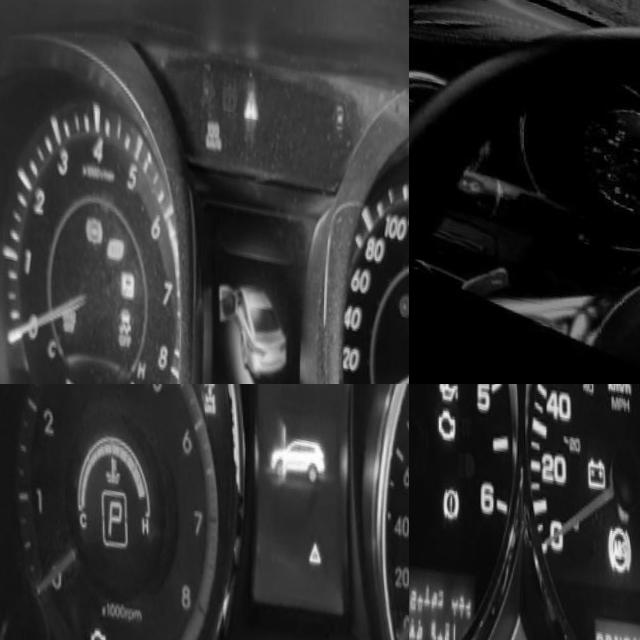Electronic Power Steering: (399, 262, 409, 301)
Low fuel level: (611, 175, 619, 188)
